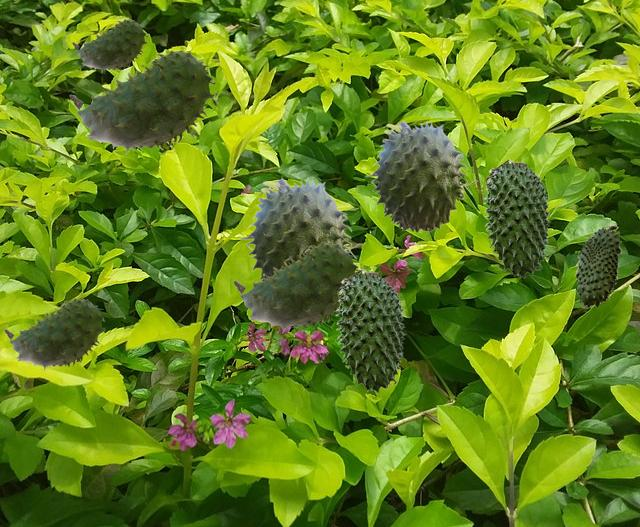guyabano: (69, 50, 214, 154), (240, 176, 362, 280), (365, 119, 477, 232), (233, 242, 359, 332), (335, 268, 405, 392), (483, 158, 550, 277), (4, 298, 104, 370), (72, 19, 146, 72), (575, 225, 620, 307)
